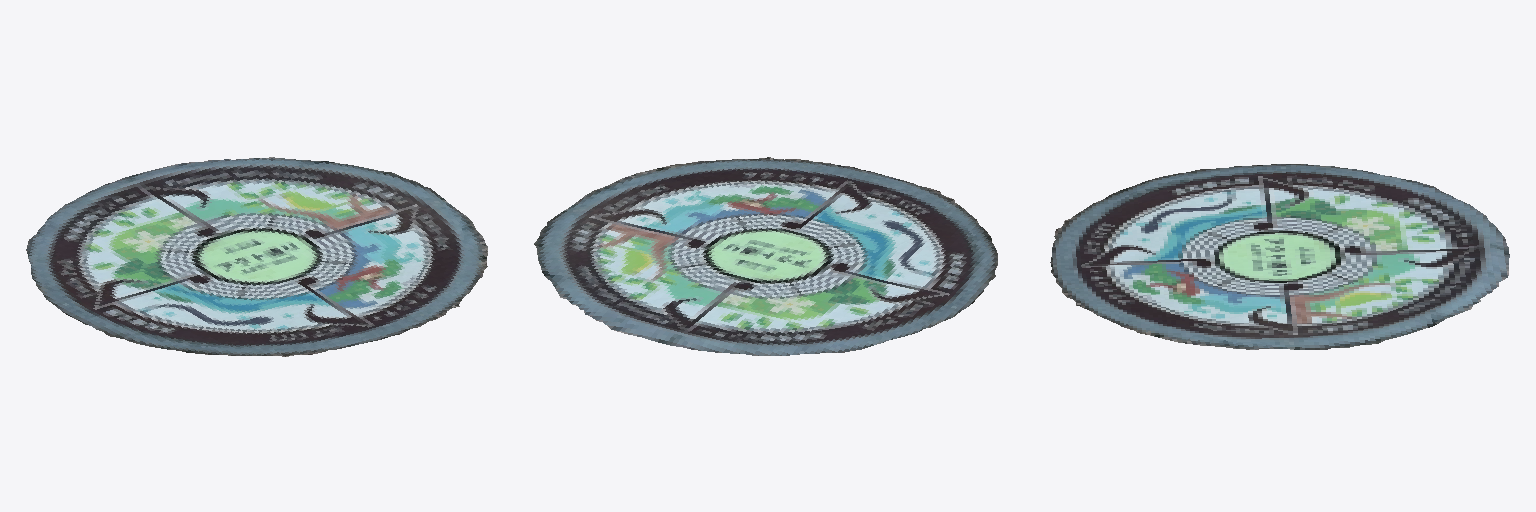
3 renders of one model, left to right at view 1: azimuth 30°, elevation 25°; view 2: azimuth 150°, elevation 25°; view 3: azimuth 270°, elevation 25°, orthographic.
Parts seen in each view (by area): view 1: Scaniverse_2025_10_30_153056:mesh; view 2: Scaniverse_2025_10_30_153056:mesh; view 3: Scaniverse_2025_10_30_153056:mesh.
Part boxes in pixels (bbox=[...]): Scaniverse_2025_10_30_153056:mesh: bbox=[26, 157, 487, 356]; Scaniverse_2025_10_30_153056:mesh: bbox=[534, 157, 997, 355]; Scaniverse_2025_10_30_153056:mesh: bbox=[1050, 164, 1509, 349].
Bounding box in the file's own units: 0.6678 × 0.0163 × 0.6719.
1 materials, 1 textured.